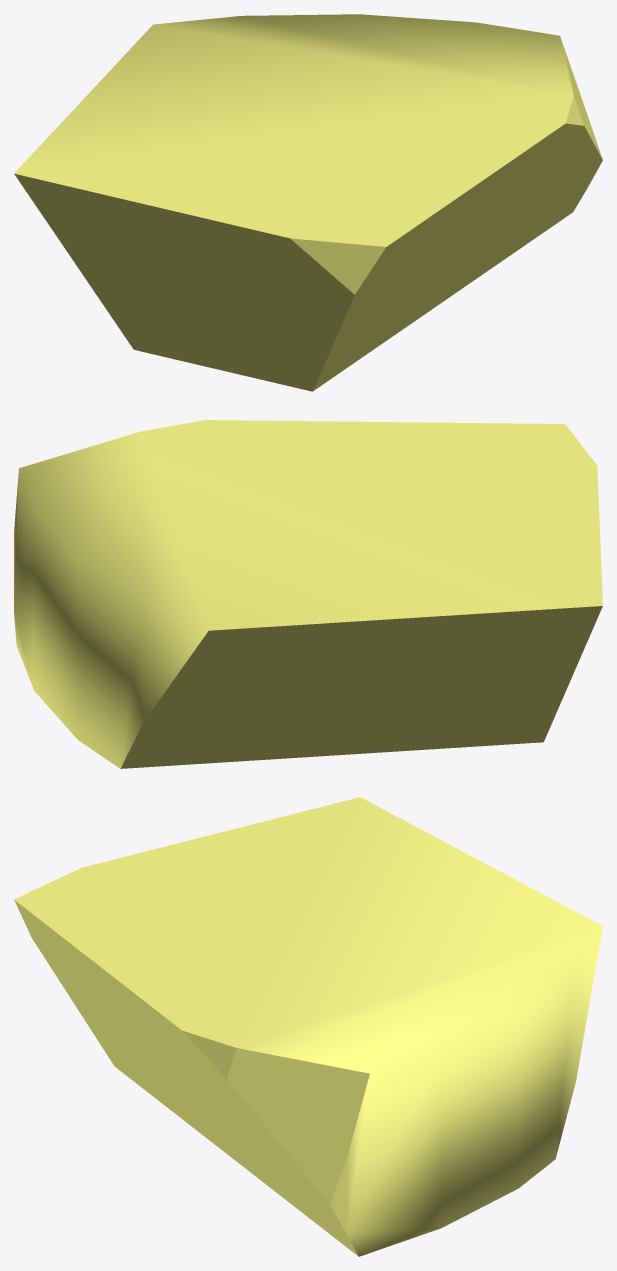
Rendered from breakableCenter_cell_007.fbx.
3 renders of one model, top to bottom at view 1: azimuth 30°, elevation 25°; view 2: azimuth 150°, elevation 25°; view 3: azimuth 270°, elevation 25°, orthographic. The views are drawn at different scales.
Visible parts, largest first — view 1: breakableCenter_cell.007; view 2: breakableCenter_cell.007; view 3: breakableCenter_cell.007.
Part boxes in pixels (left/top/right/bottom): breakableCenter_cell.007: left=14, top=14, right=602, bottom=391; breakableCenter_cell.007: left=14, top=420, right=602, bottom=768; breakableCenter_cell.007: left=14, top=797, right=602, bottom=1256.
Size of the model in its own units: 48.73 by 14.14 by 42.07.
